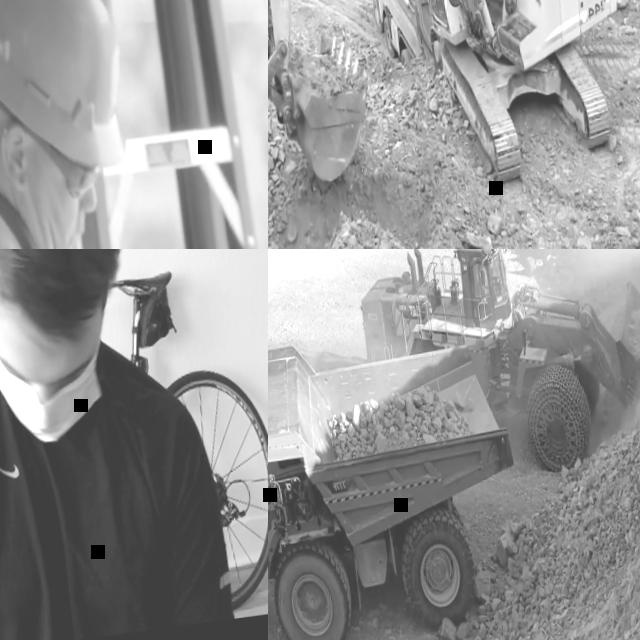Hardhat: (0, 0, 134, 183)
Mask: (0, 341, 110, 449)
NO-Hardhat: (0, 249, 134, 339)
NO-Mask: (17, 183, 85, 249)
NO-Safety Vest: (0, 326, 194, 640)
Person: (0, 249, 238, 640), (0, 0, 170, 249)
machinery: (268, 310, 534, 640), (268, 0, 639, 221), (345, 249, 640, 500), (354, 0, 443, 68)
